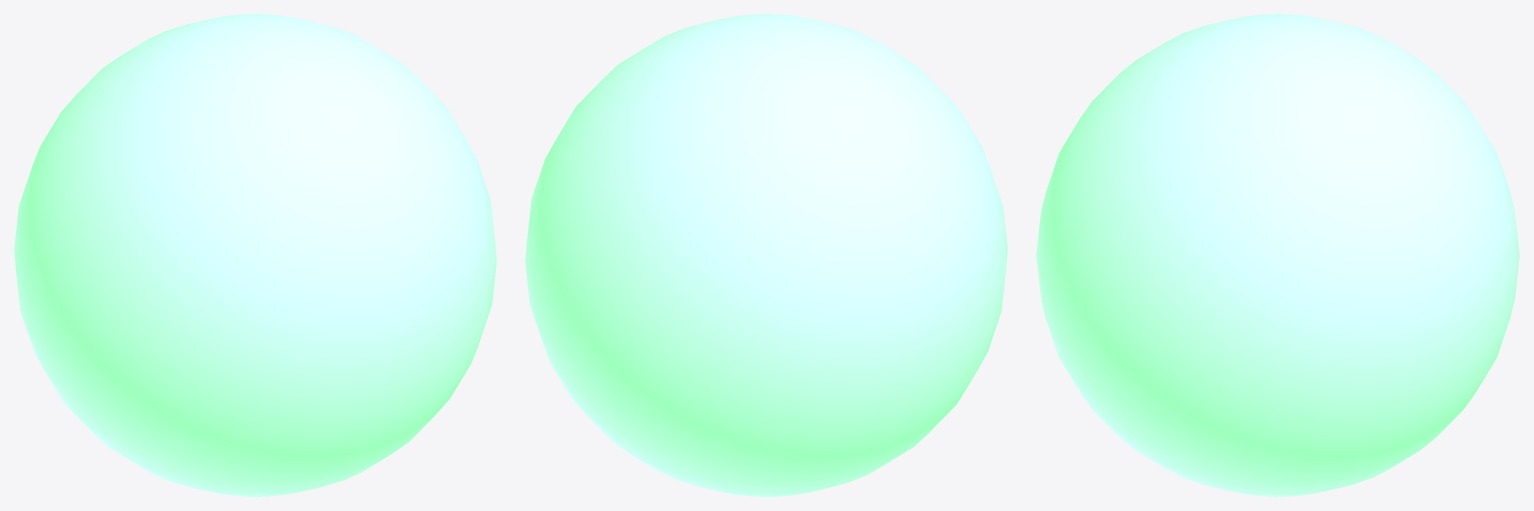
The model's file is plasma_orb.glb.
3 views of the same model, side by side, from view 1: azimuth 30°, elevation 25°; view 2: azimuth 150°, elevation 25°; view 3: azimuth 270°, elevation 25° (orthographic).
Visible parts, largest first — view 1: Projectile_PlasmaOrb; view 2: Projectile_PlasmaOrb; view 3: Projectile_PlasmaOrb.
Boxes of the visible parts, bbox=[...] form: Projectile_PlasmaOrb: bbox=[14, 14, 496, 496]; Projectile_PlasmaOrb: bbox=[525, 14, 1007, 496]; Projectile_PlasmaOrb: bbox=[1036, 14, 1519, 496].
Size of the model in its own units: 0.24 by 0.24 by 0.24.
